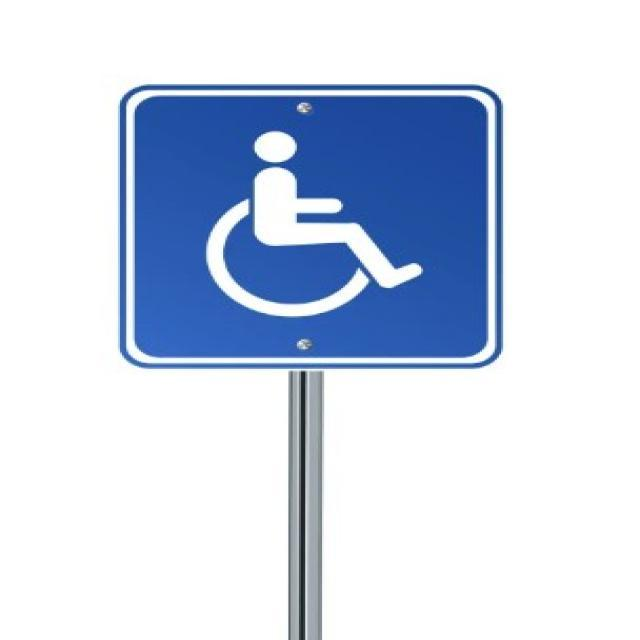symbol_of_access: (113, 79, 506, 374)
